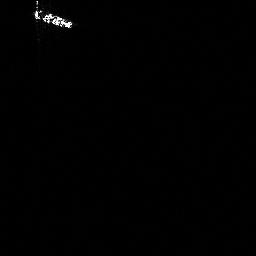ship: (33, 1, 74, 29)
